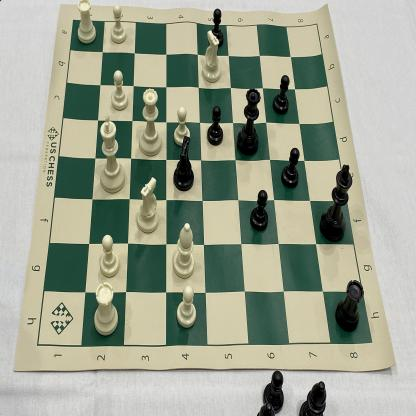black-king: (318, 160, 354, 246)
black-knight: (171, 135, 197, 192)
black-pawn: (248, 187, 271, 232), (280, 145, 302, 190), (272, 73, 292, 118), (205, 104, 225, 147), (210, 6, 225, 47)
black-queen: (236, 86, 262, 158)
black-rook: (333, 271, 365, 336)
white-bishop: (172, 219, 196, 279)
white-king: (96, 112, 127, 194)
white-knight: (135, 173, 161, 233), (201, 28, 223, 84)
white-pawn: (173, 283, 198, 329), (98, 233, 122, 278), (108, 68, 129, 112), (108, 2, 128, 44), (172, 104, 192, 146)
white-queen: (139, 84, 163, 159)
white-rook: (90, 280, 122, 338), (75, 0, 97, 45)
